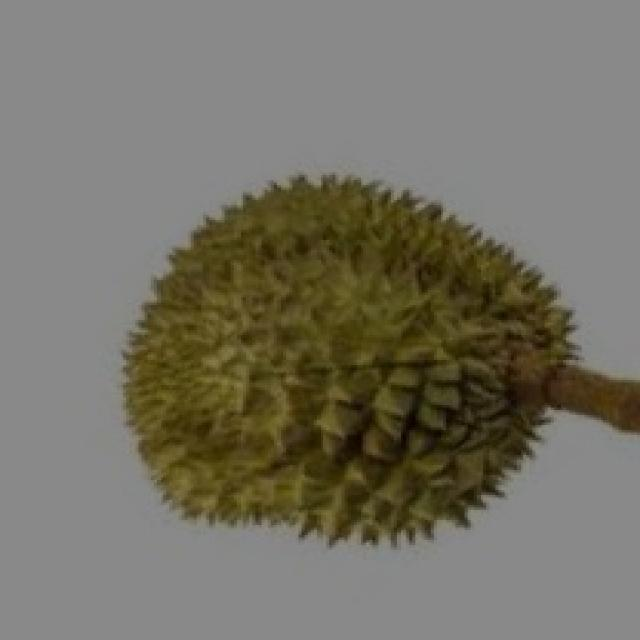fruit: (264, 155, 630, 615), (77, 180, 415, 595)
